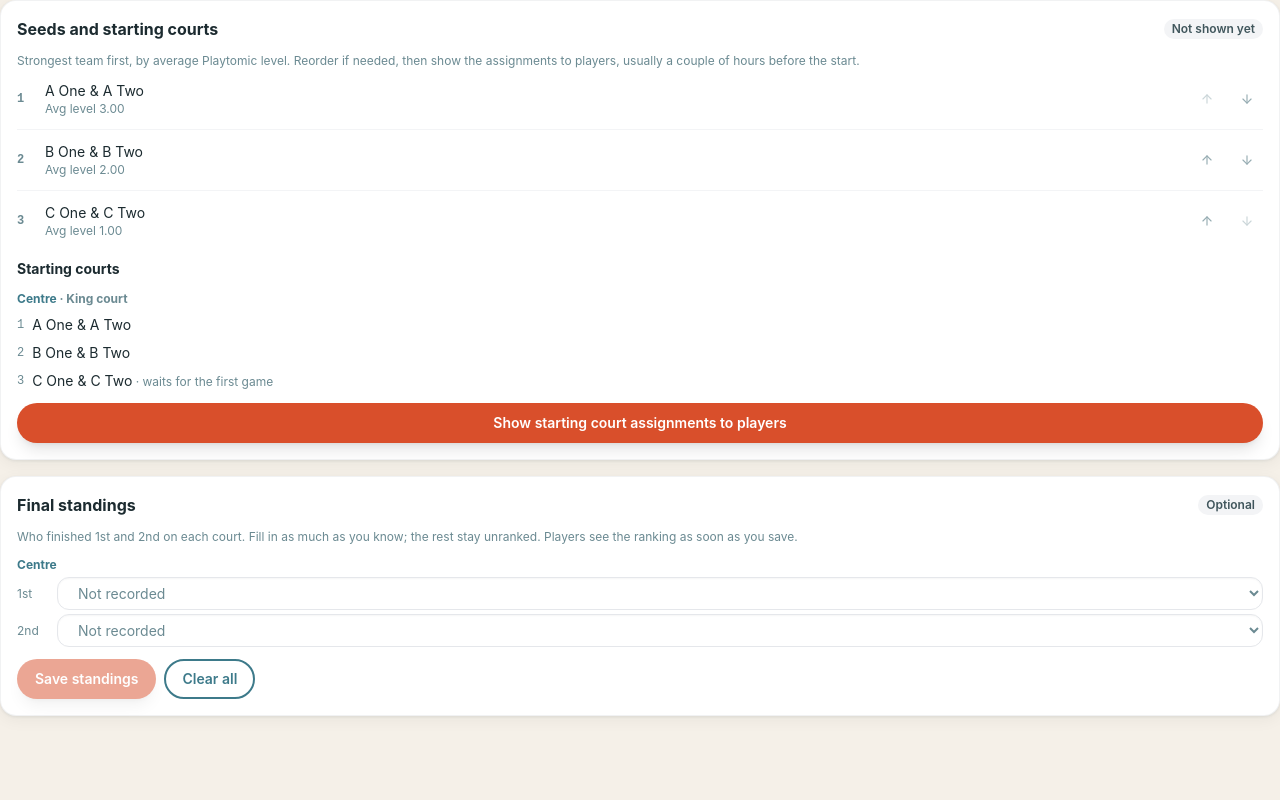
Scenario: KingOfCourtAdmin — final standings › refuses a team picked twice
The image size is (1280, 800).
Select "A One & A Two" in the dropdown labelled "1st": (660, 594) x1=57 y1=577 x2=1263 y2=610
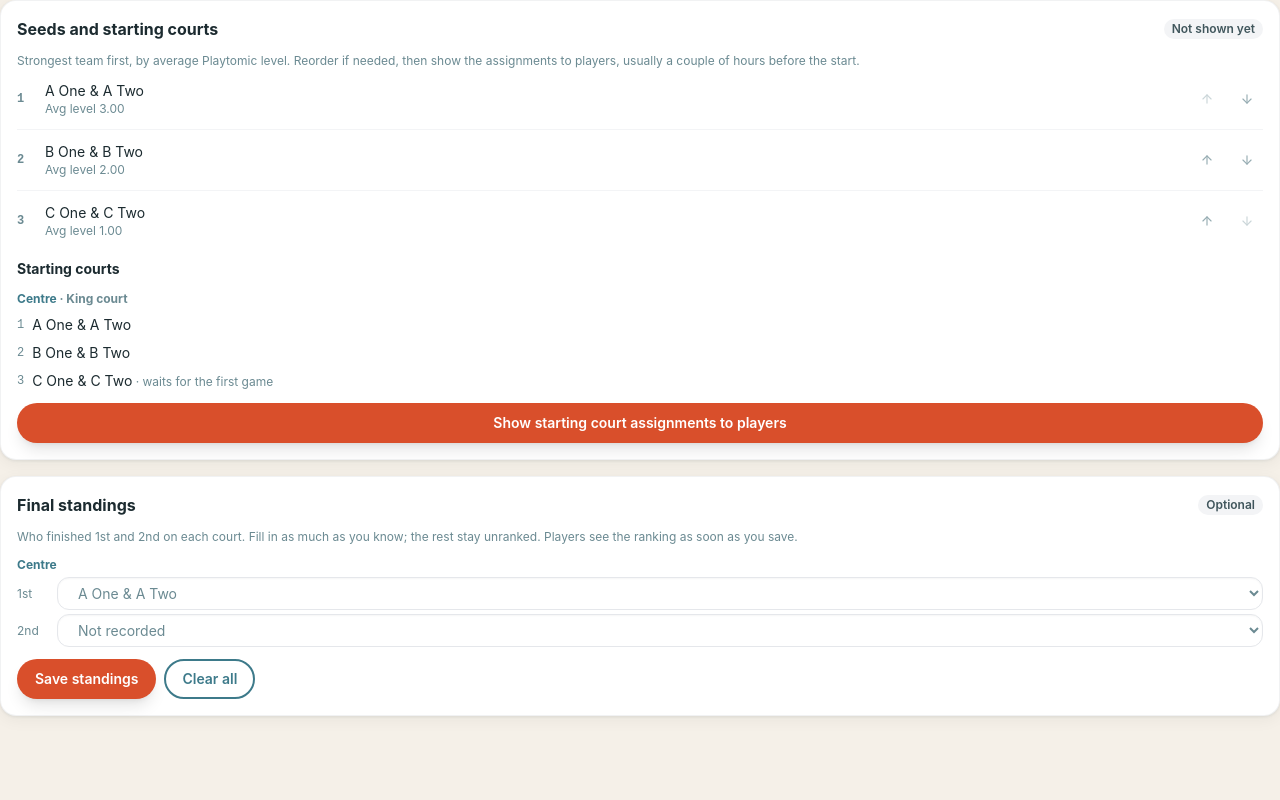
Select "A One & A Two" in the dropdown labelled "2nd": (660, 630) x1=57 y1=614 x2=1263 y2=647
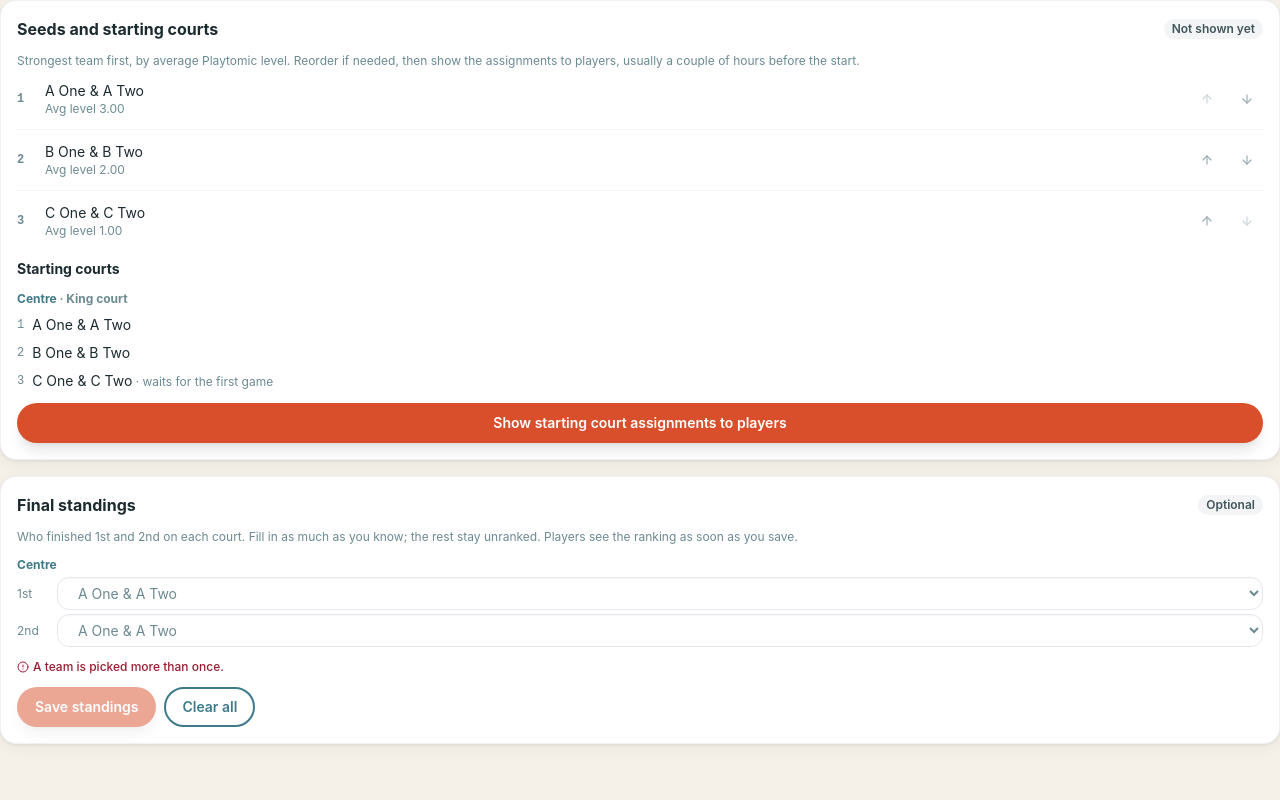
Expected: the text "A team is picked more than once." is shown, x1=33 y1=659 x2=224 y2=675
Expected: the button "Save standings" is disabled, x1=17 y1=687 x2=156 y2=727
